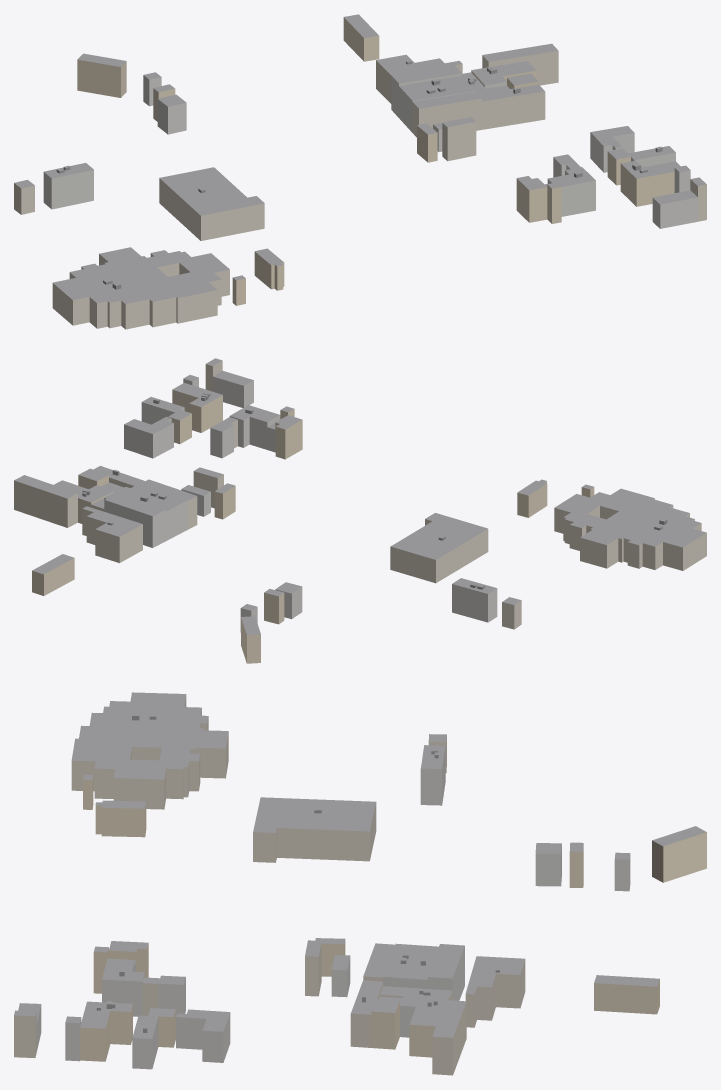
The model's file is building_0_-3.glb.
The picture shows the model from 3 angles, top to bottom: view 1: azimuth 30°, elevation 25°; view 2: azimuth 150°, elevation 25°; view 3: azimuth 270°, elevation 25°; orthographic projection. The views are drawn at different scales.
Visible parts, largest first — view 1: roof, concrete_warm, sandstone, concrete_light; view 2: roof, concrete_warm, concrete_light, sandstone; view 3: roof, concrete_warm, sandstone, concrete_light.
Part boxes in pixels (x1,y1,x2,y2): roof: [14, 14, 706, 303]; concrete_warm: [14, 50, 706, 329]; sandstone: [77, 17, 674, 305]; concrete_light: [43, 73, 697, 228]; roof: [14, 358, 706, 635]; concrete_warm: [14, 361, 706, 629]; concrete_light: [104, 376, 497, 632]; sandstone: [32, 390, 594, 663]; roof: [14, 692, 706, 1038]; concrete_warm: [14, 696, 525, 1075]; sandstone: [80, 776, 706, 1061]; concrete_light: [36, 746, 630, 1069].
Size of the model in its own units: 280 by 15.57 by 232.
